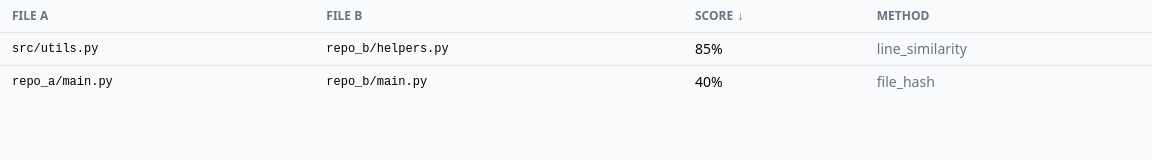
Scenario: FilePairTable › toggles sort direction on header click (ascending)
# Default is descending (85% first). One click flips to ascending (40% first).
Click the column heading "Score↓".
click(714, 16)  # box [683,0,865,32]
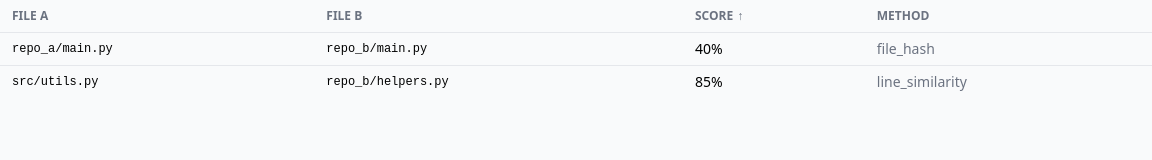
Now the text "40%" is shown, box [683,32,865,66]
